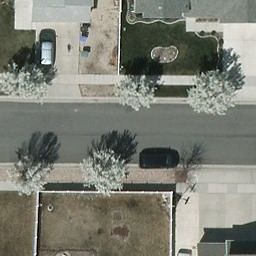car: (37, 33, 59, 71), (139, 152, 181, 169)
